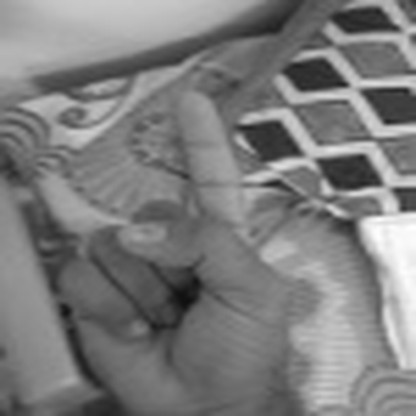d: (56, 82, 273, 414)
